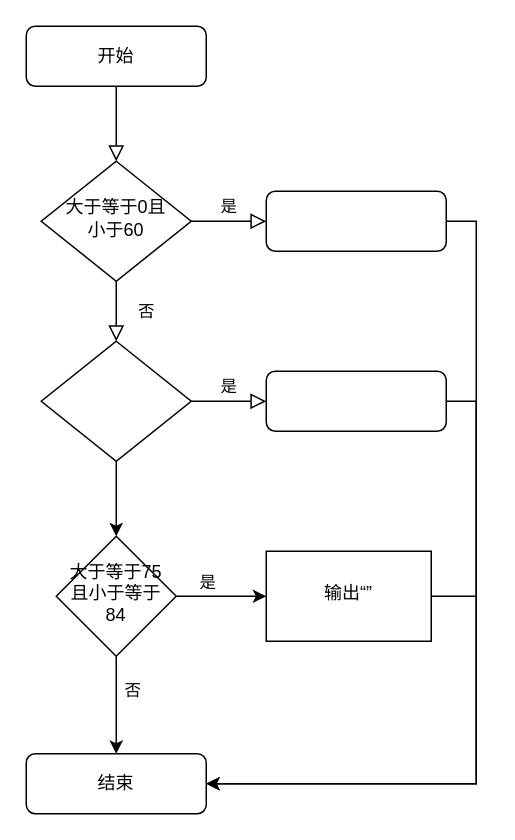
Image size: 515x840. Some labels were removed from this diagram. Here are the shapes that lost their labels. From the top down, the box of each, then its label:
(265, 190, 446, 251): 输出“不合格”
(40, 340, 191, 461): 大于等于60且小于等于74
(265, 370, 446, 431): 输出“合格”
